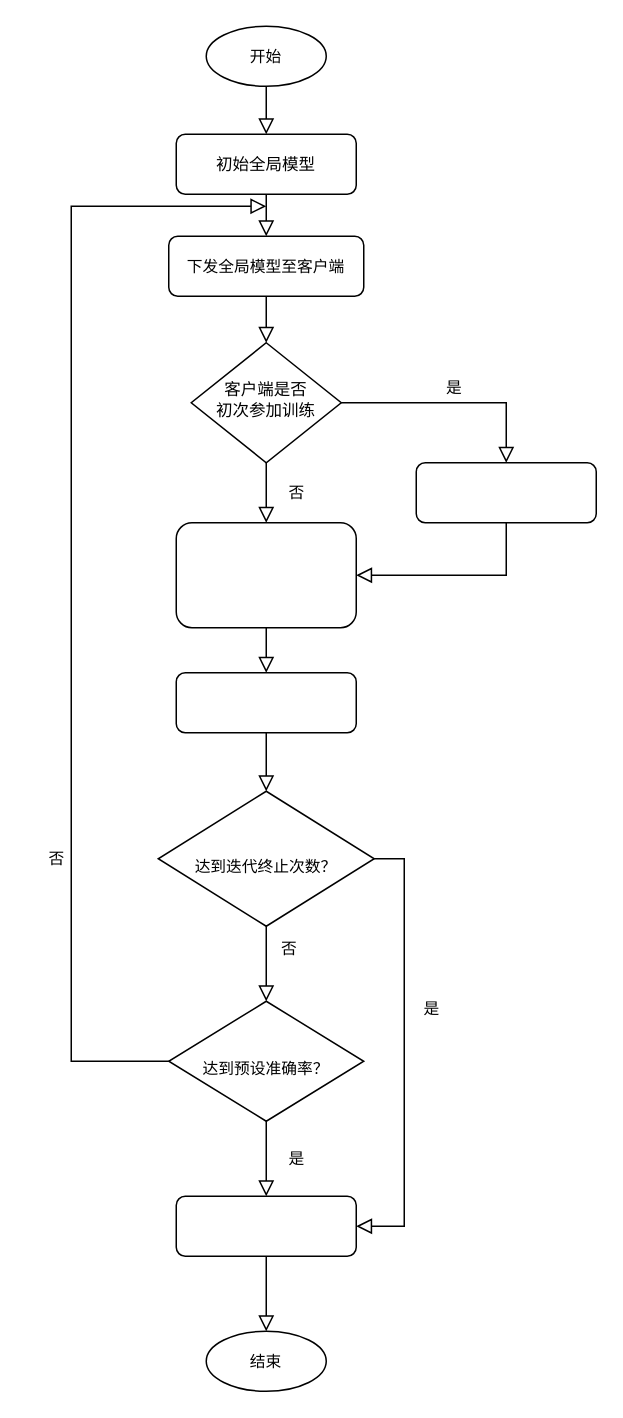
This 623x1418 diagram has some shape labels left out. Each missing label, with the box of its shape:
下发最新全局模型并终止客户端继续训练: (175, 1195, 356, 1256)
接收客户端平衡度: (415, 461, 596, 523)
接收客户端模型参数和模型精度并计算聚合权重: (175, 521, 356, 628)
更新全局模型: (175, 671, 356, 733)
